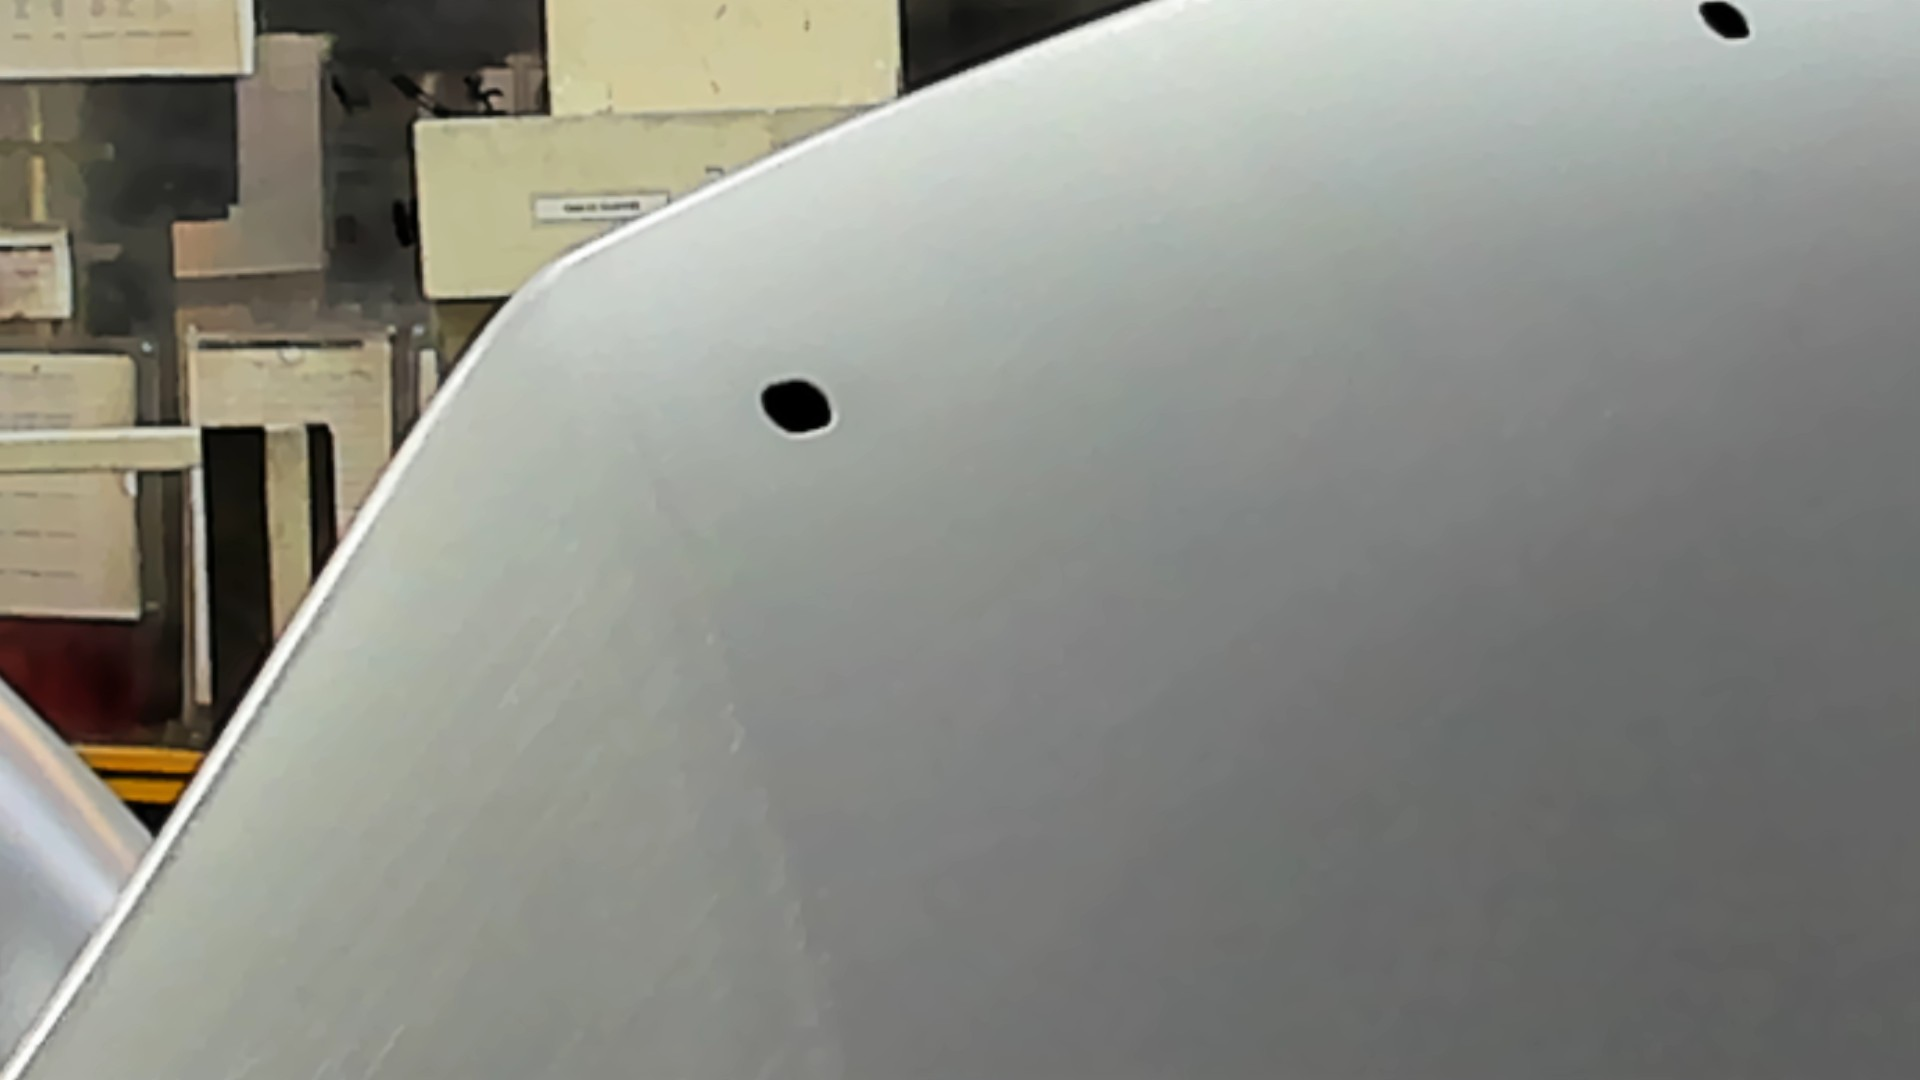amorfo: (750, 373, 843, 440), (1692, 1, 1760, 45)
